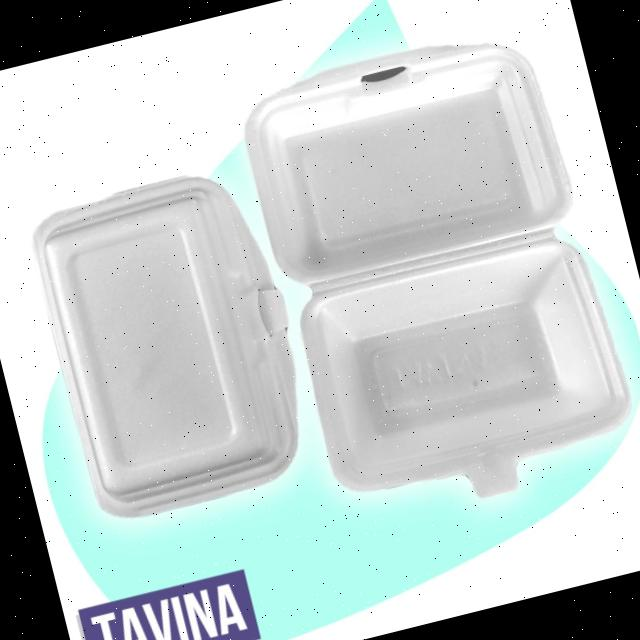styrofoam: (230, 14, 640, 533), (22, 157, 326, 528)
